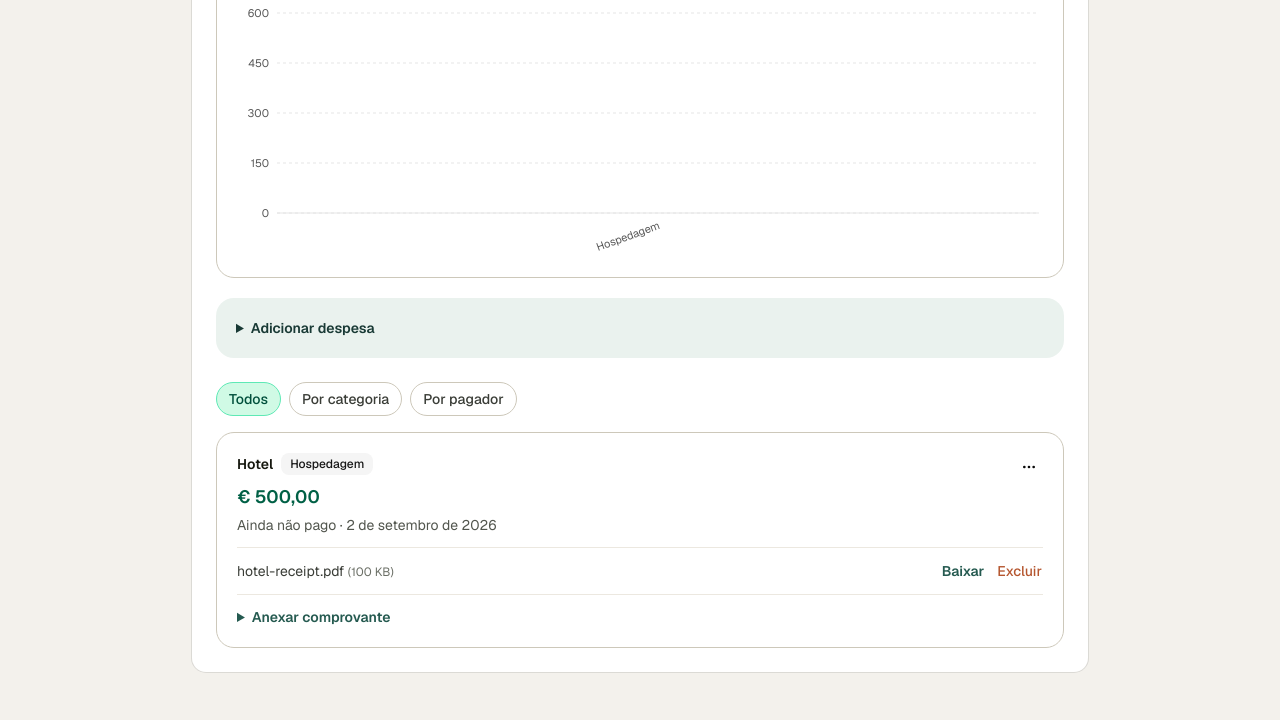
Test: TripPage › expense receipt attachments › offers an inline upload form fixed to that expense, without an association picker
(page scrolled)
Click the heading "Anexar comprovante": (321, 617) left=252, top=608, right=390, bottom=626
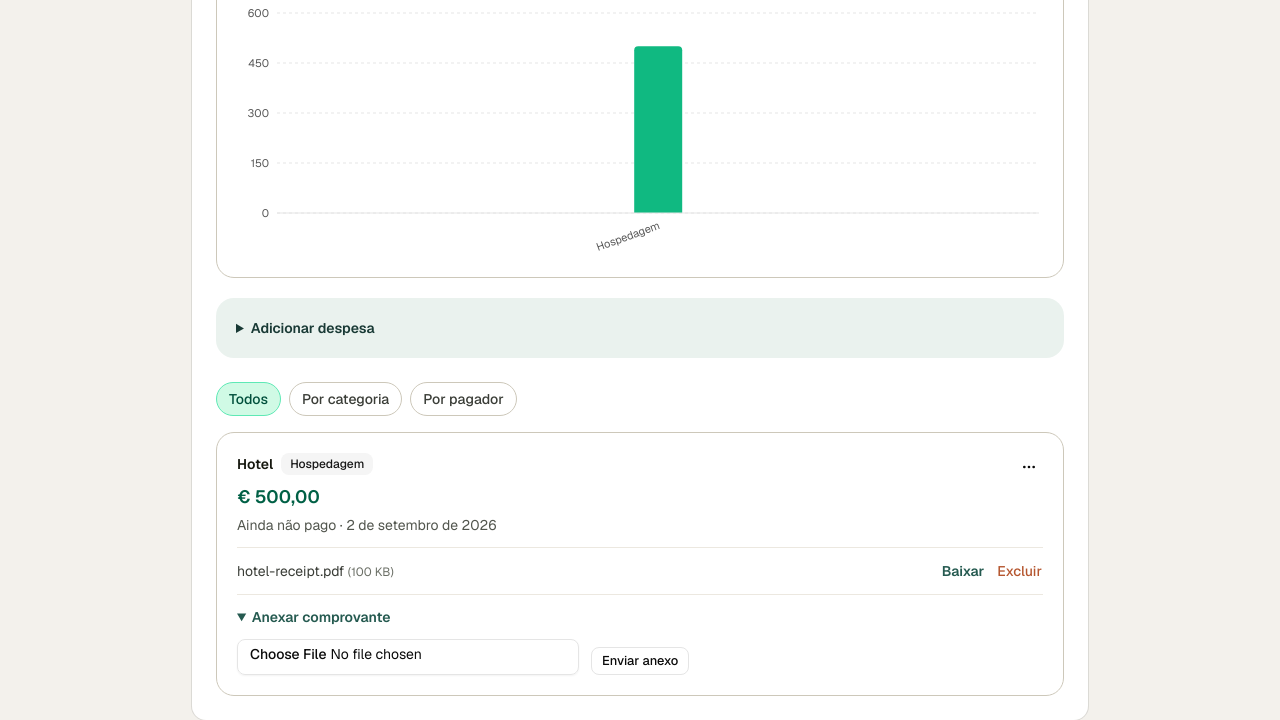
Now the form named "itemType" holds "expense", box left=237, top=639, right=689, bottom=675
Now the form named "itemId" holds "aaaaaaaa-aaaa-aaaa-aaaa-aaaaaaaaaaaa", box left=237, top=639, right=689, bottom=675
